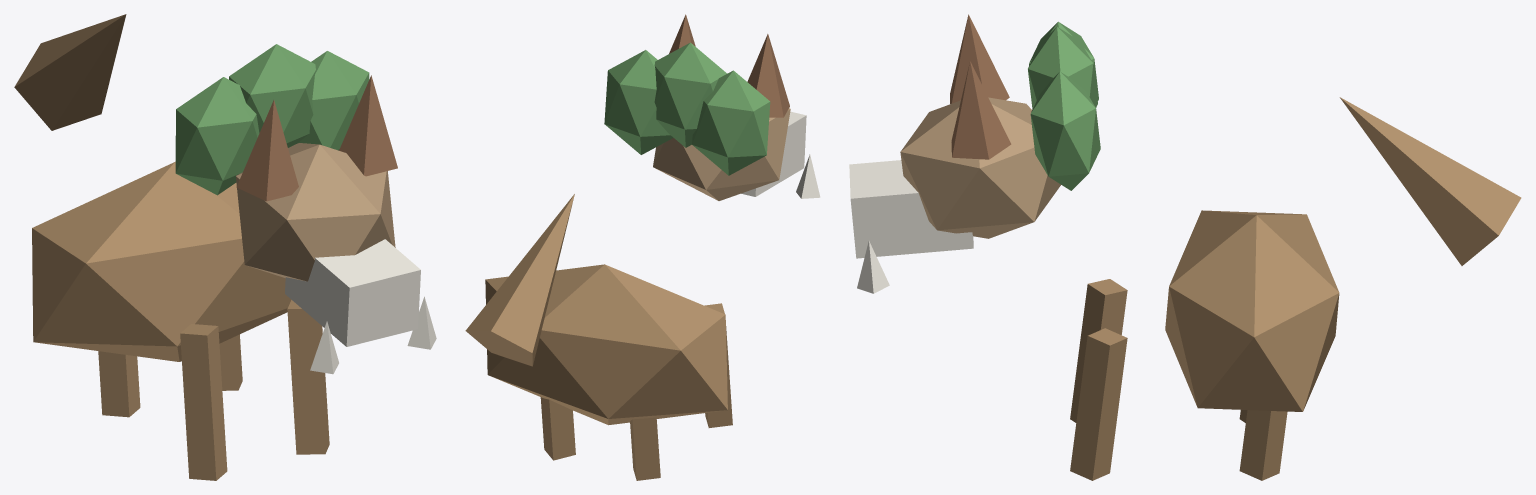
Rendered from npcpose_wolf_attack_02.glb.
3 views of the same model, side by side, from view 1: azimuth 30°, elevation 25°; view 2: azimuth 150°, elevation 25°; view 3: azimuth 270°, elevation 25° (orthographic). The views are drawn at different scales.
Visible parts, largest first — view 1: npcpose; view 2: npcpose; view 3: npcpose.
Part boxes in pixels (<box>): npcpose: <box>14,14,436,480</box>; npcpose: <box>465,14,820,480</box>; npcpose: <box>849,14,1521,480</box>.
Size of the model in its own units: 0.8873 by 1.26 by 1.82.
